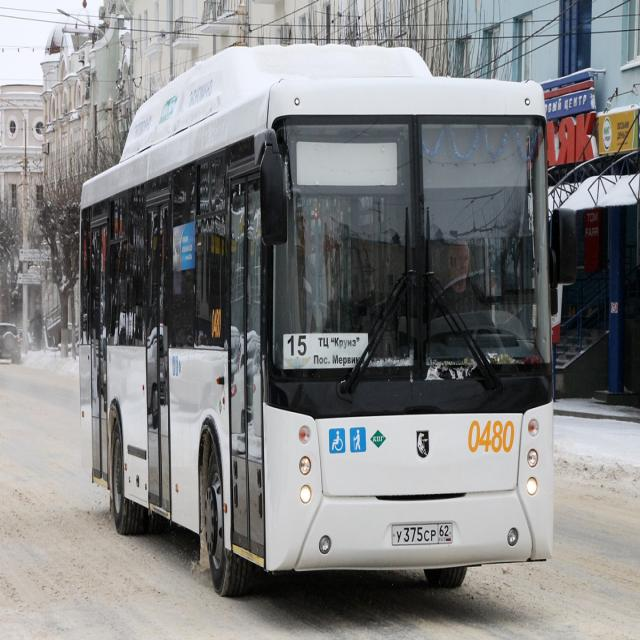number-of-bus: (288, 335, 309, 358)
